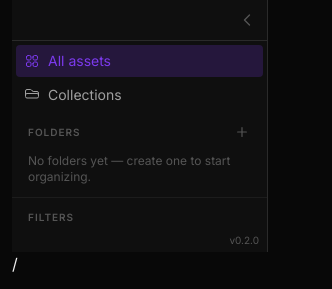
Test: MainSidebar integration › collapses to an icon rail and expands back
The width and height of the screenshot is (332, 289).
Expected: the text "Folders" is shown, [28,124,80,140]
Click the button named "collapse sidebar".
click(247, 20)  # box [235,8,259,32]
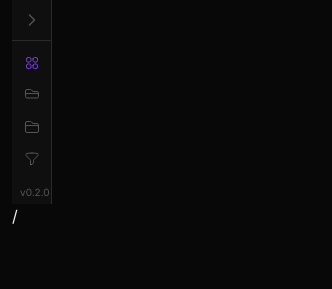
Expected: the text "Folders" is gone
Expected: the button named "show folders" is shown, [18,113,46,141]
Expected: the button named "show filters" is shown, [18,145,46,173]
Click the button named "expand sidebar".
click(32, 20)  # box [20,8,44,32]
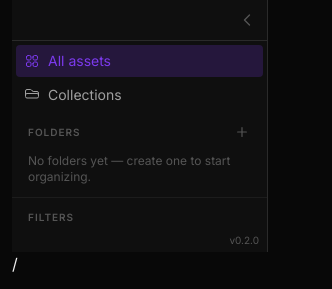
Expected: the text "Folders" is shown, [28,124,80,140]
